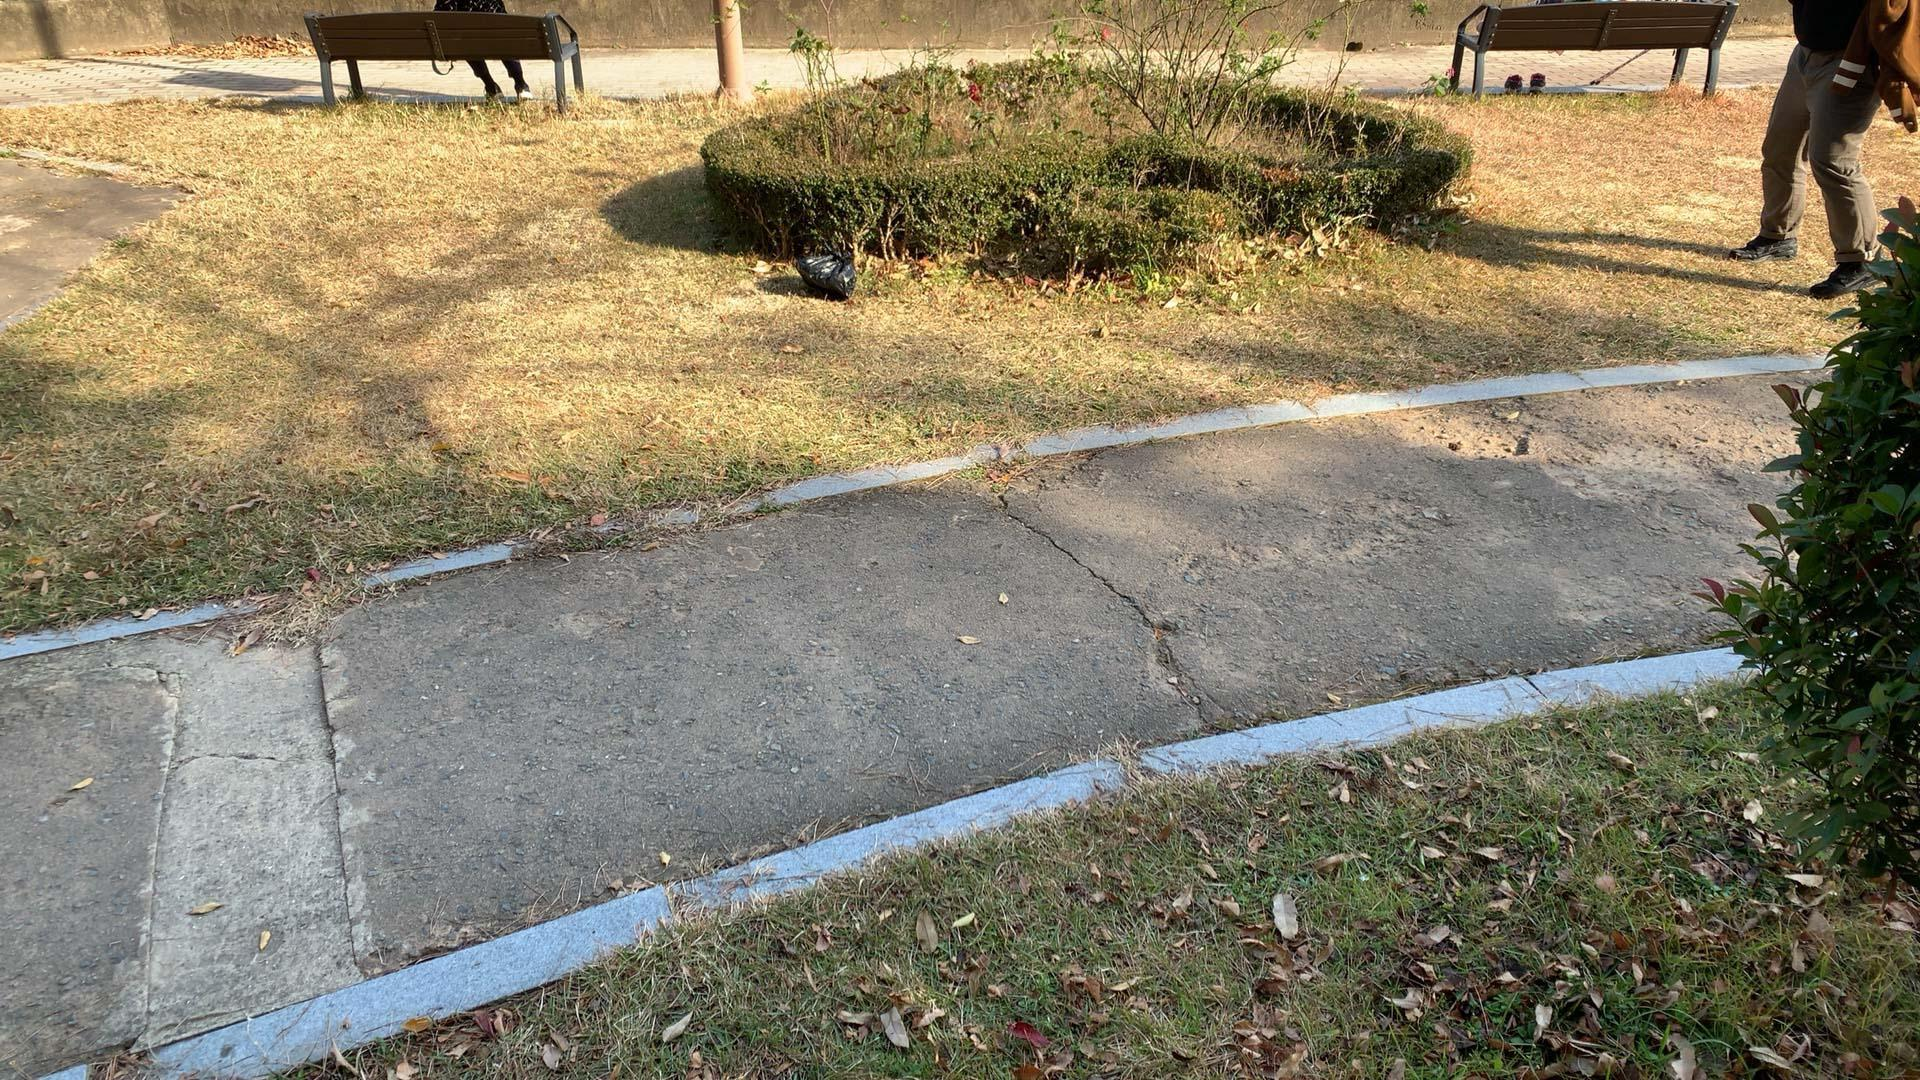black_bag: (790, 241, 858, 302)
